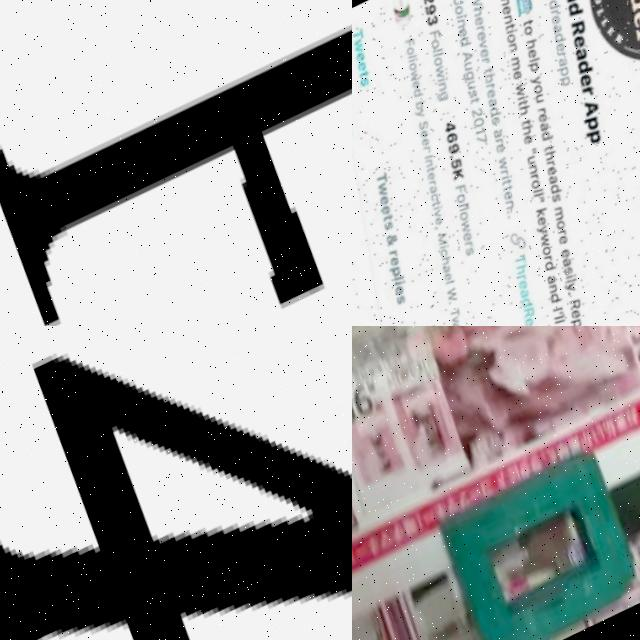0: (474, 116, 488, 131)
1: (476, 126, 489, 138)
2: (472, 108, 487, 122), (422, 0, 437, 7)
3: (425, 12, 443, 29)
4: (444, 120, 461, 137)
5: (452, 158, 467, 173)
6: (446, 130, 463, 147)
7: (477, 133, 492, 149)
9: (423, 2, 440, 19), (449, 142, 464, 157)
D: (425, 446, 640, 640)
F: (0, 0, 352, 326)
